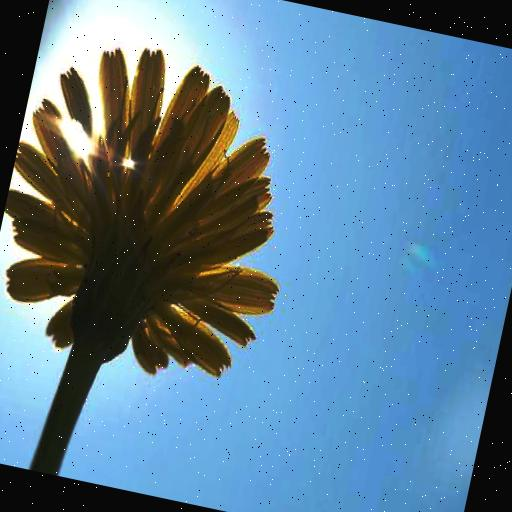dandelion: (0, 28, 322, 422)
